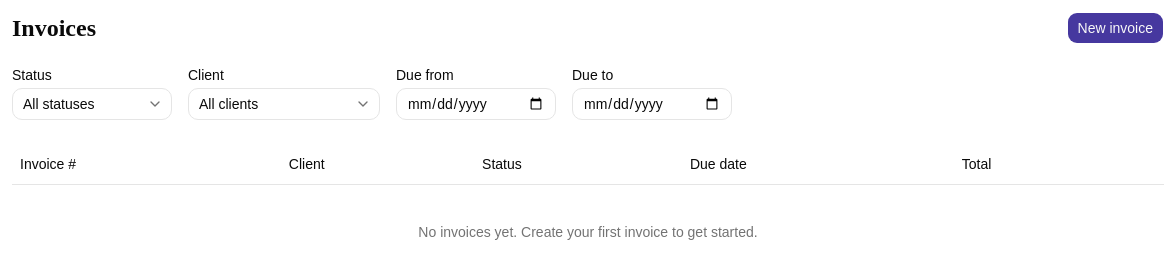
Test case: InvoicesListPage status filter › includes ?status=<value> once a specific status is selected
The width and height of the screenshot is (1176, 279).
Click the dropdown labelled "All statuses" at (92, 104), box [12,88,172,120]
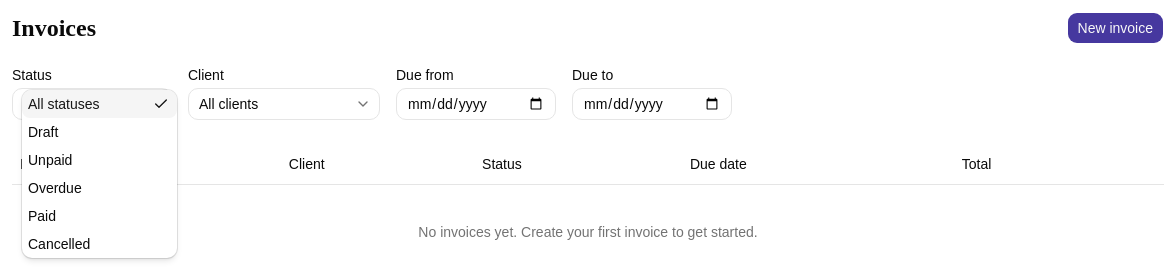
Click the option "Overdue" at (55, 188), box [28,180,82,196]
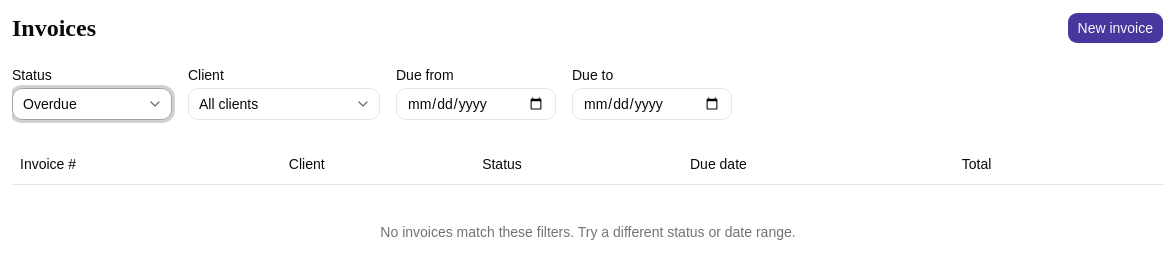
Result: the text "Overdue" is shown at [23,94,77,114]
